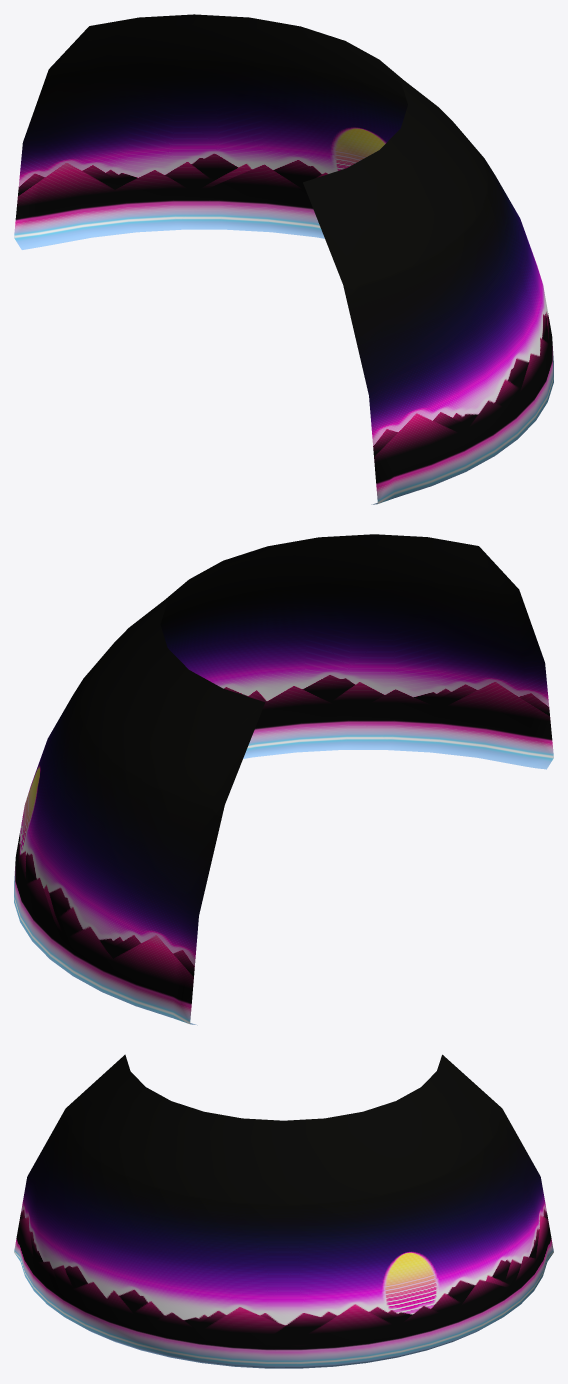
The model's file is horizon.FBX.
3 renders of one model, top to bottom at view 1: azimuth 30°, elevation 25°; view 2: azimuth 150°, elevation 25°; view 3: azimuth 270°, elevation 25°, orthographic. The views are drawn at different scales.
Visible parts, largest first — view 1: Sphere001; view 2: Sphere001; view 3: Sphere001.
Boxes of the visible parts, x1,y1,x2,y2 form: Sphere001: (14,14,553,504); Sphere001: (14,534,553,1025); Sphere001: (14,1054,553,1368).
Bounding box in the file's own units: 62.01 × 126 × 54.1.
1 material, 1 textured.
